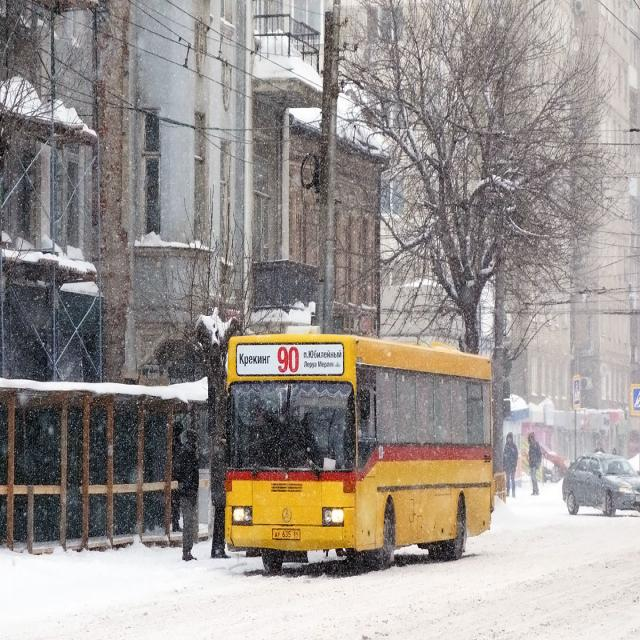number-of-bus: (276, 346, 302, 376)
